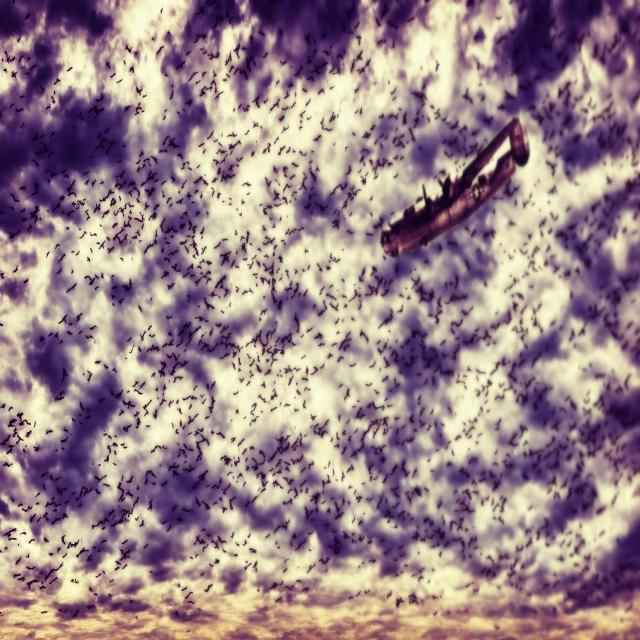airplane: (379, 115, 530, 259)
